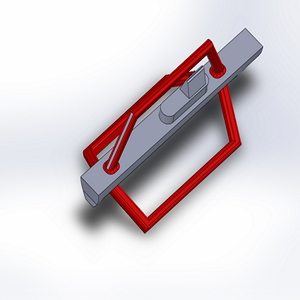submarine: (39, 13, 300, 236)
